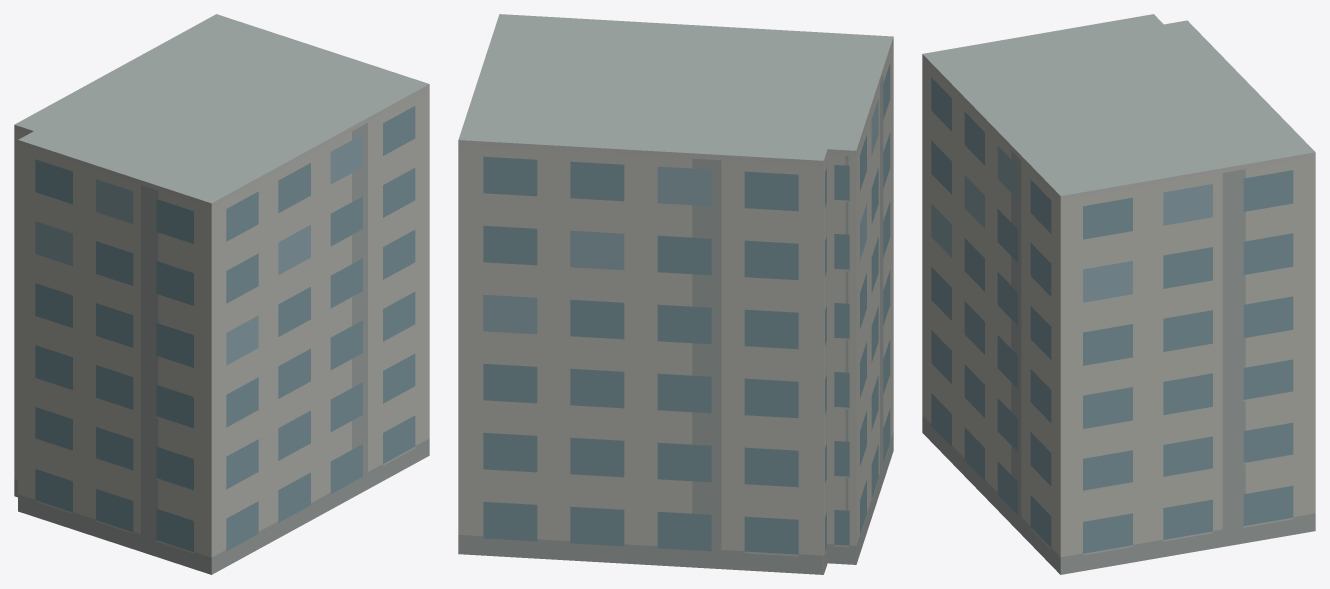
The model's file is survey-upis-32963365.glb.
3 renders of one model, left to right at view 1: azimuth 30°, elevation 25°; view 2: azimuth 150°, elevation 25°; view 3: azimuth 270°, elevation 25°, orthographic. The views are drawn at different scales.
Parts seen in each view (by area): view 1: survey-upis-32963365.tmp; view 2: survey-upis-32963365.tmp; view 3: survey-upis-32963365.tmp.
Part boxes in pixels (<box>): survey-upis-32963365.tmp: <box>14,14,429,574</box>; survey-upis-32963365.tmp: <box>458,14,893,574</box>; survey-upis-32963365.tmp: <box>922,14,1315,574</box>.
Bounding box in the file's own units: 19.49 × 18.9 × 17.79.
